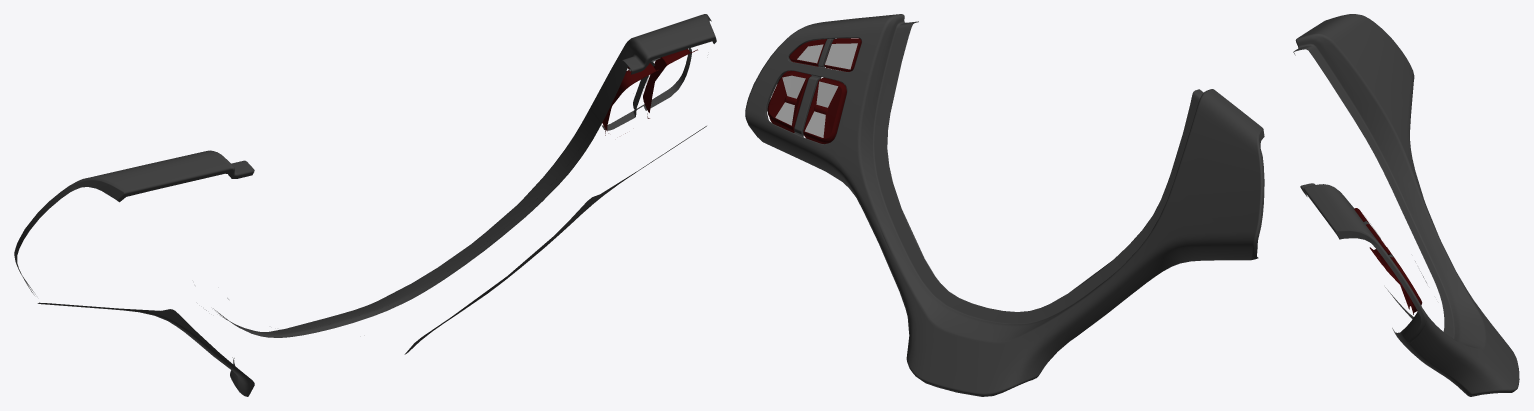
The model's file is TOYOTA_URBAN_CRUISER_MID_IN_STEERING_CRUISE_CONTROL_MESH.glb.
The picture shows the model from 3 angles, left to right: view 1: azimuth 30°, elevation 25°; view 2: azimuth 150°, elevation 25°; view 3: azimuth 270°, elevation 25°; orthographic projection. The views are drawn at different scales.
Parts seen in each view (by area): view 1: TOYOTA_URBAN_CRUISER_MID_IN_STEERING_CRUISE_CONTROL_MESH; view 2: TOYOTA_URBAN_CRUISER_MID_IN_STEERING_CRUISE_CONTROL_MESH; view 3: TOYOTA_URBAN_CRUISER_MID_IN_STEERING_CRUISE_CONTROL_MESH.
Part boxes in pixels (x1,y1,x2,y2): TOYOTA_URBAN_CRUISER_MID_IN_STEERING_CRUISE_CONTROL_MESH: (14,14,716,396); TOYOTA_URBAN_CRUISER_MID_IN_STEERING_CRUISE_CONTROL_MESH: (745,14,1264,396); TOYOTA_URBAN_CRUISER_MID_IN_STEERING_CRUISE_CONTROL_MESH: (1293,14,1519,396).
Size of the model in its own units: 0.2923 by 0.1473 by 0.1115.
